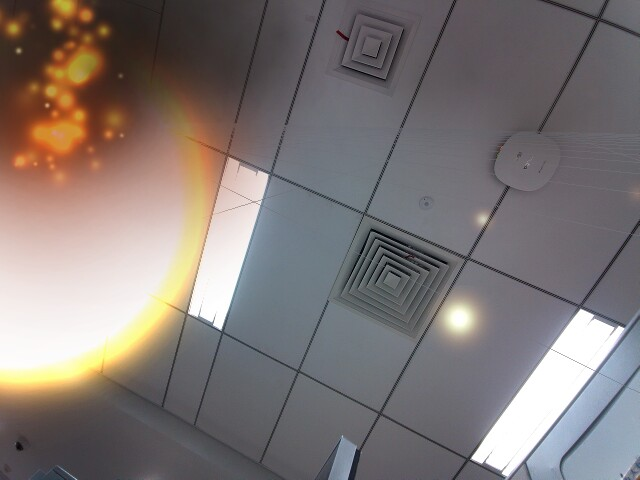fire: (0, 20, 216, 406)
